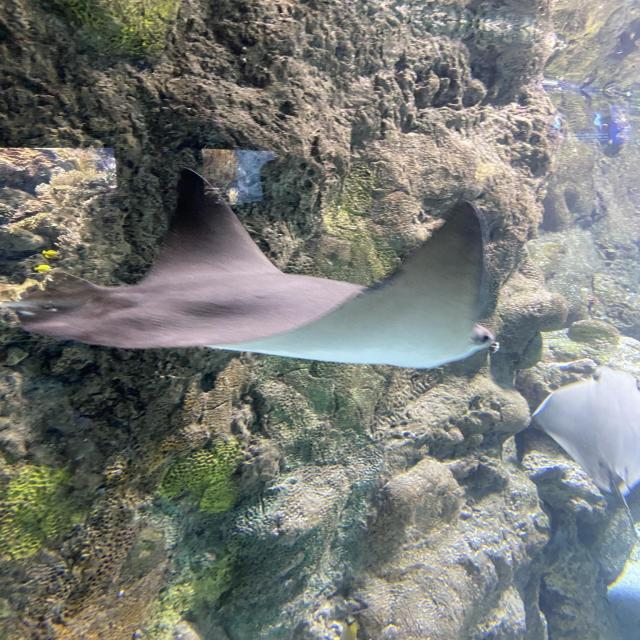stingray: (17, 166, 496, 371), (528, 362, 639, 500)
